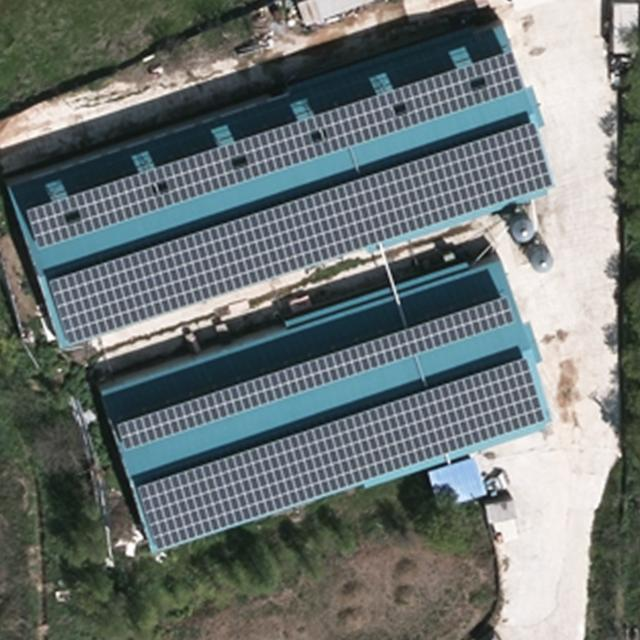panel: (50, 125, 553, 350), (27, 52, 525, 251), (138, 358, 549, 551), (111, 298, 515, 451)
